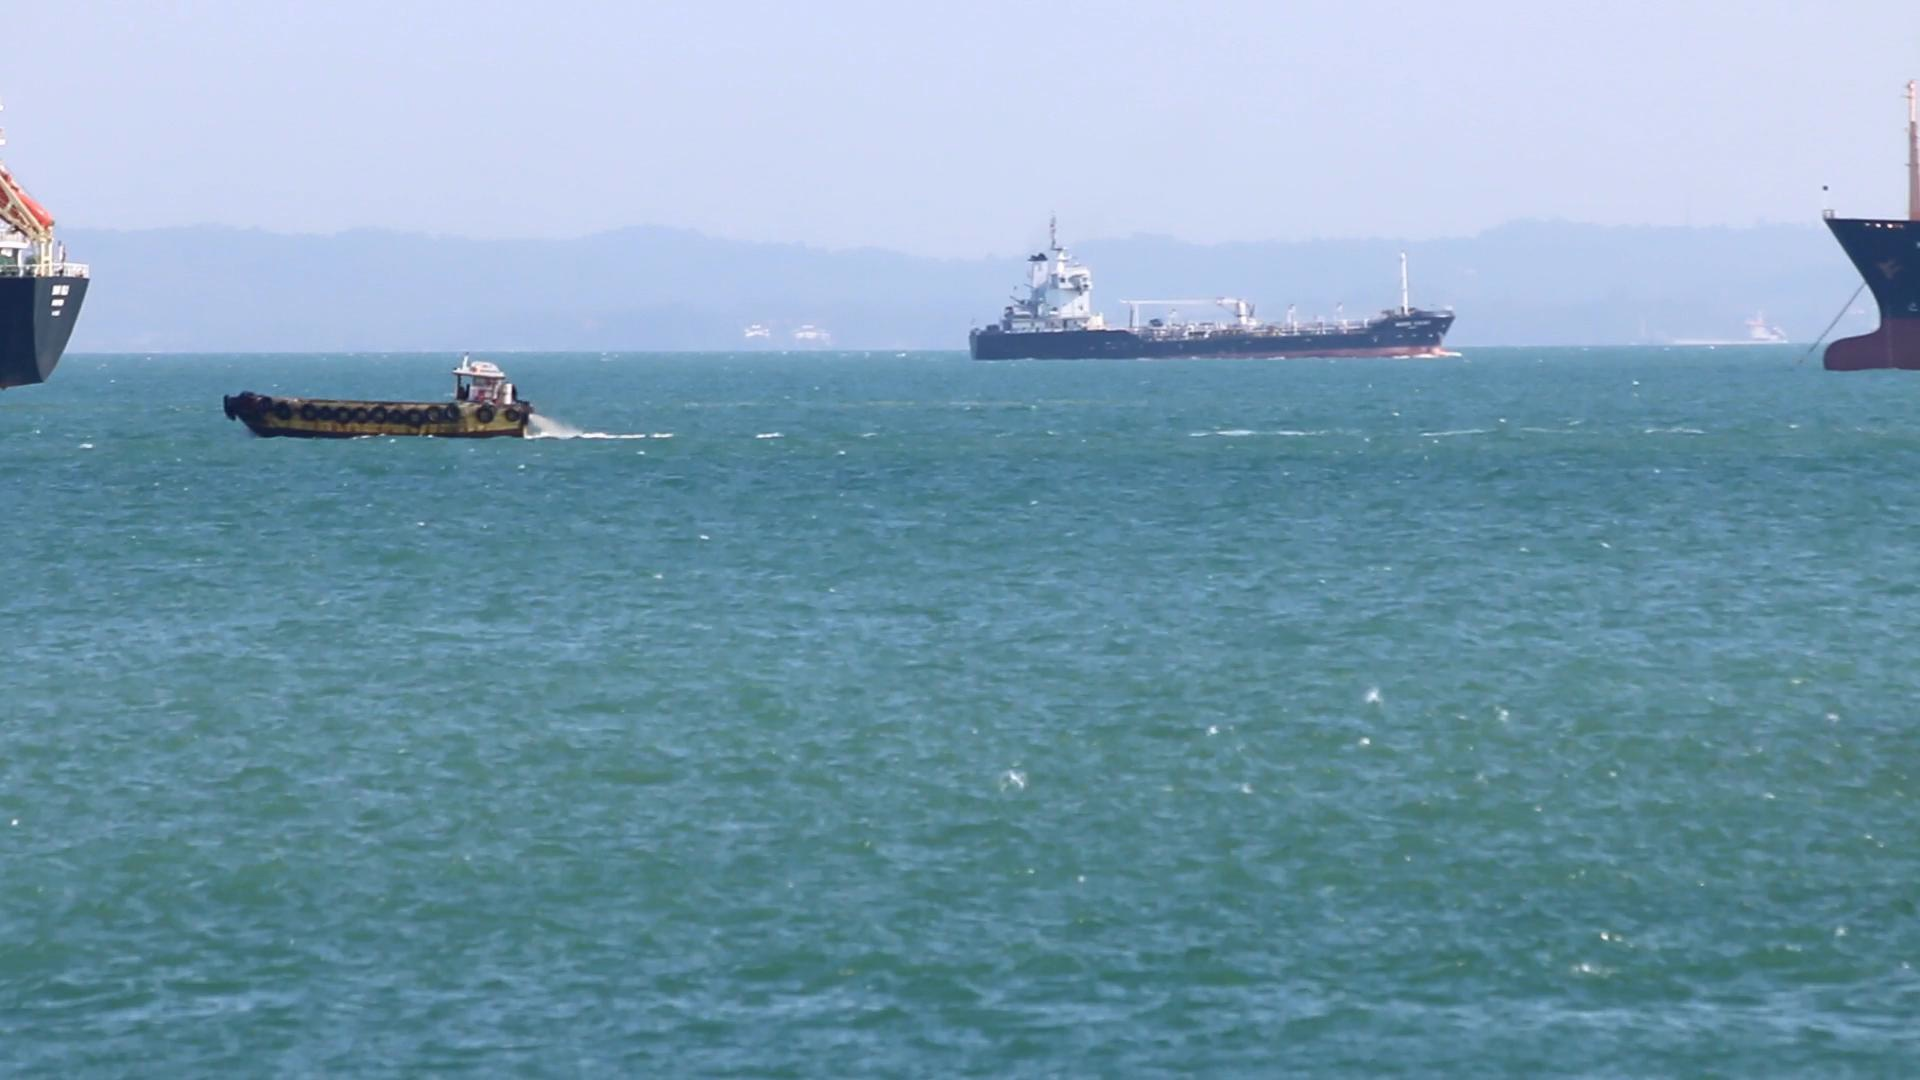Container Ship: (967, 212, 1455, 364), (1822, 75, 1920, 369), (0, 160, 92, 384)
